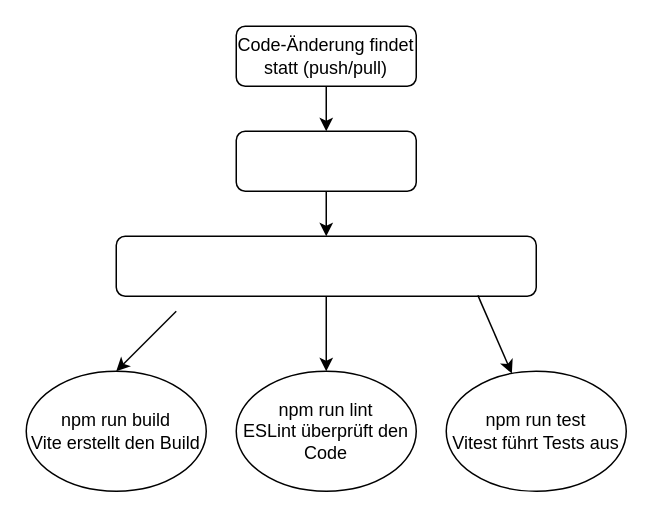
Image size: 653x518. Some labels were removed from this diagram. Each missing label, with the centre of its shape:
"npm ci installiert die Abhängigkeiten aus der Lockdatei" belongs at (325,265).
"YAML-Workflow wird gestartet" belongs at (325,160).
